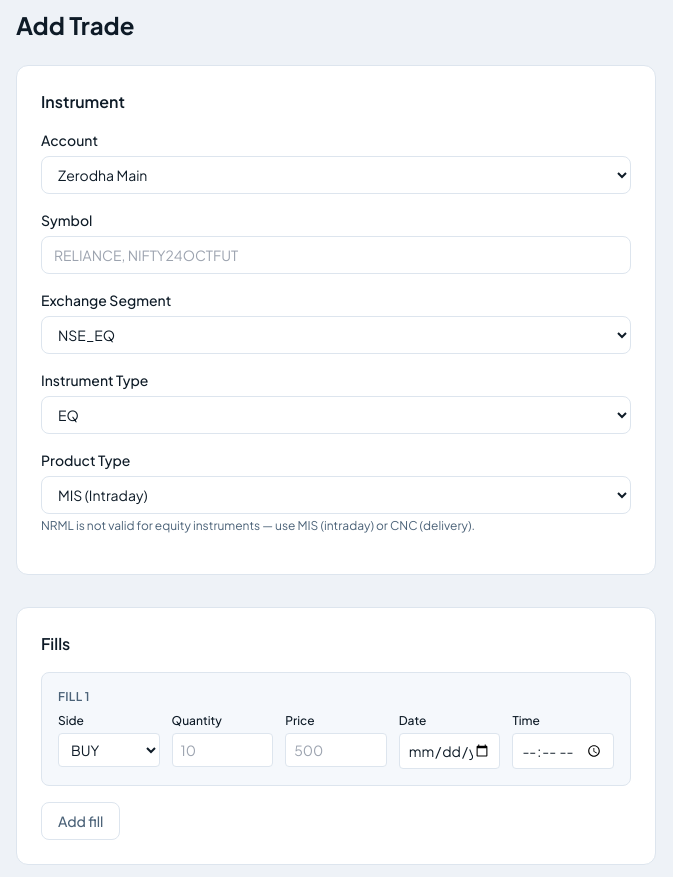
AddTradePage — F-16-02: expiry date visibility › hides expiry date for EQ and shows it for FUT
// EQ: expiry date not present
Select "EQ" in the dropdown labelled "Instrument Type". click: (336, 415)
box: [41, 396, 631, 434]
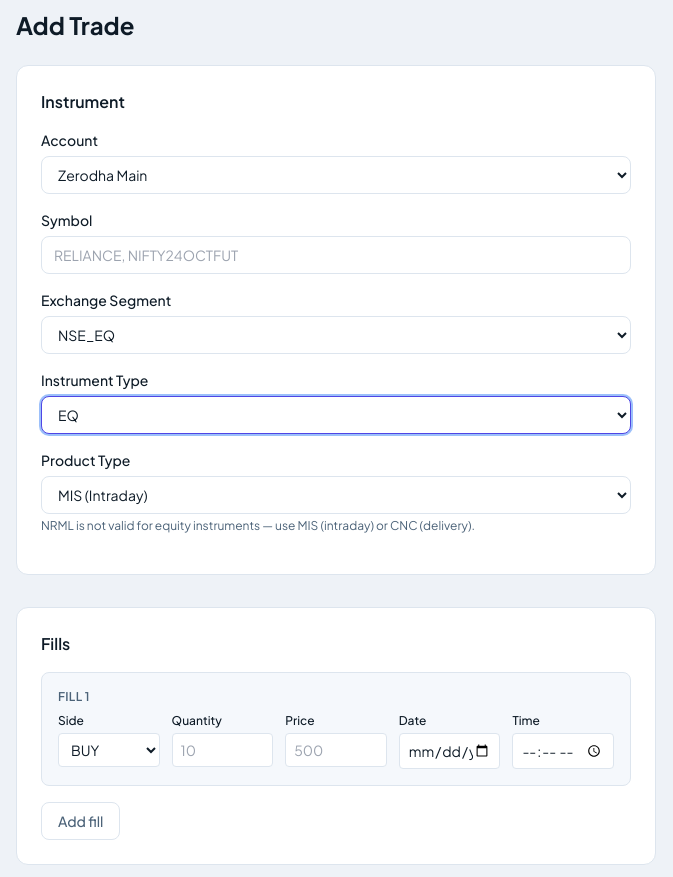
Expected: the field labelled "expiry date" is not shown
// FUT: expiry date shown
Select "FUT" in the dropdown labelled "Instrument Type". click: (336, 415)
box: [41, 396, 631, 434]
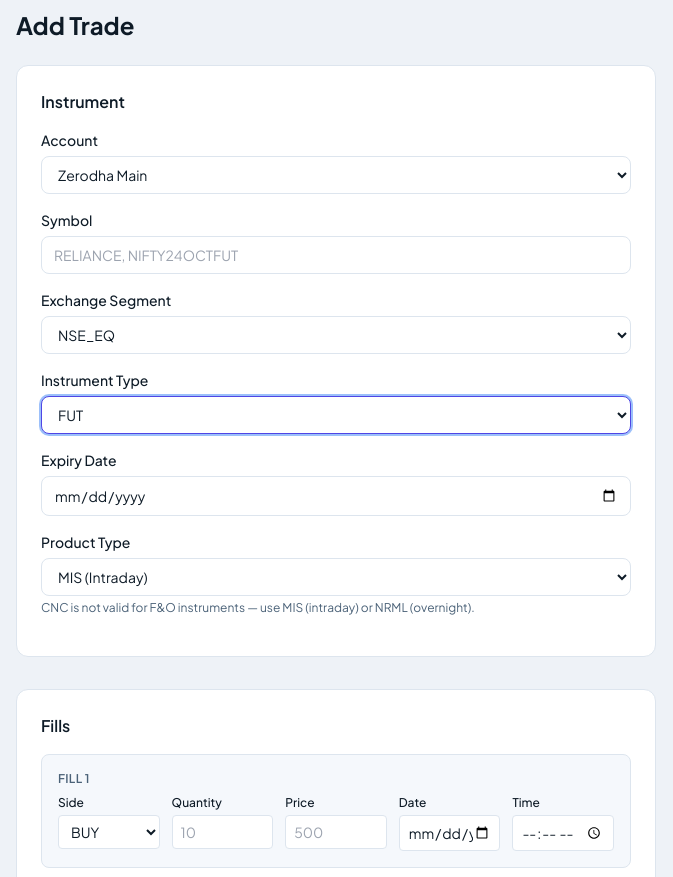
Result: the date field labelled "Expiry Date" is shown at [41, 476, 631, 516]
